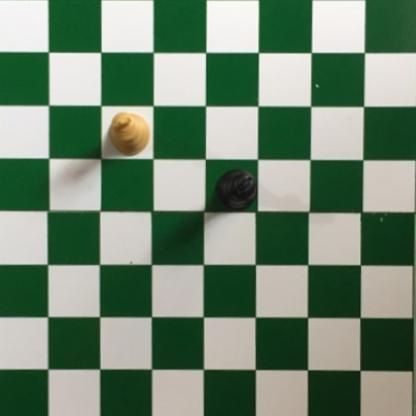black-king: (215, 167, 257, 210)
white-king: (107, 111, 149, 156)
